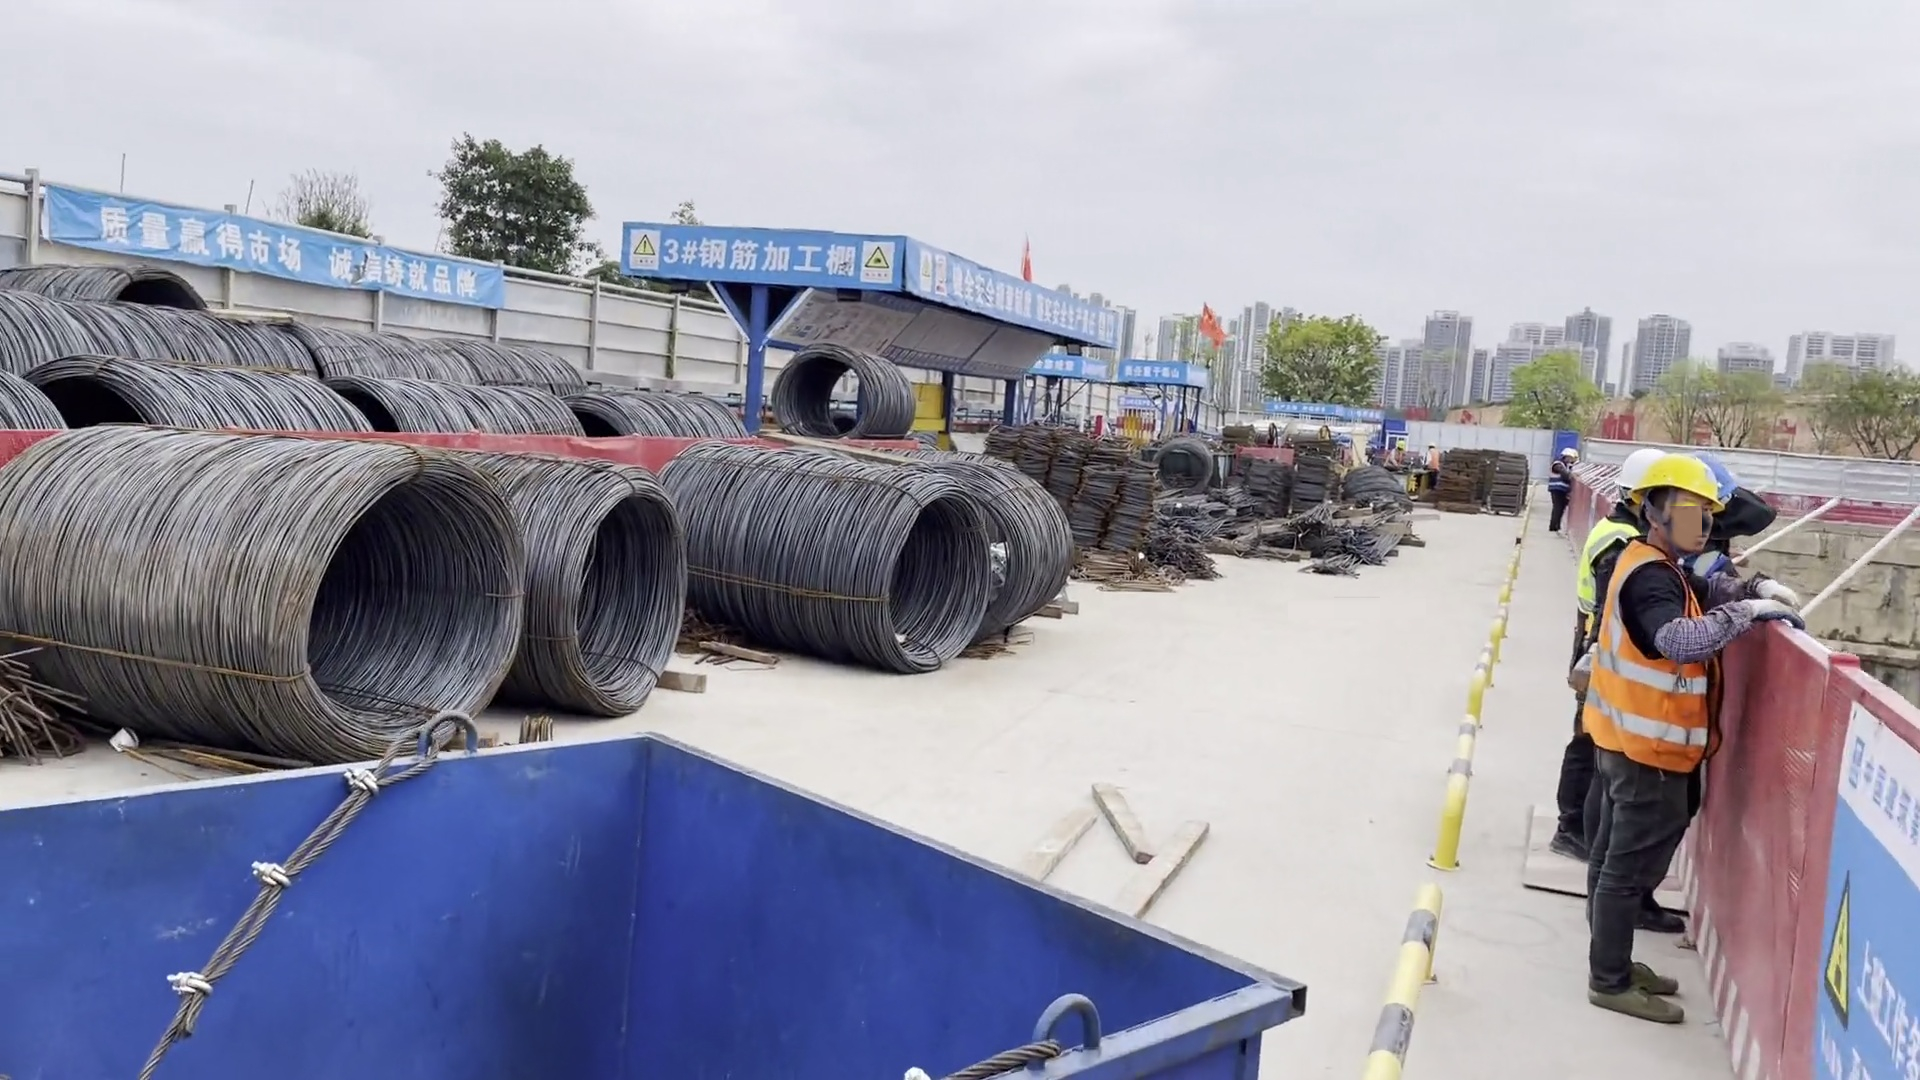helmet: (1652, 458, 1716, 512), (1614, 448, 1654, 494), (1562, 445, 1576, 463), (1425, 440, 1433, 450), (1398, 444, 1405, 452)
person: (1545, 450, 1754, 1011), (1547, 443, 1578, 541), (1423, 440, 1439, 471), (1386, 441, 1405, 465)
vest: (1599, 534, 1710, 778), (1577, 523, 1637, 648), (1550, 462, 1569, 490), (1427, 452, 1438, 469), (1389, 448, 1399, 464)
